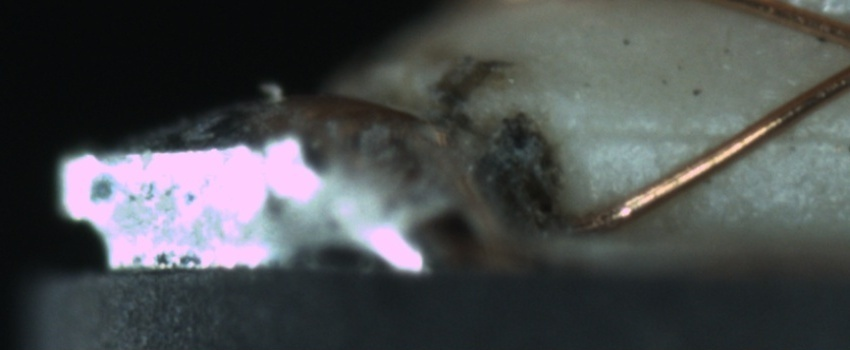DL: (579, 98, 840, 167)
